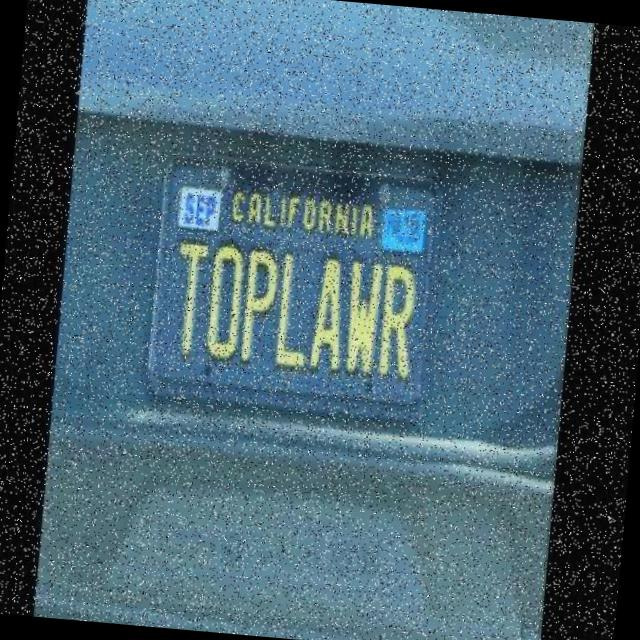LicensePlate: (143, 146, 450, 426)
